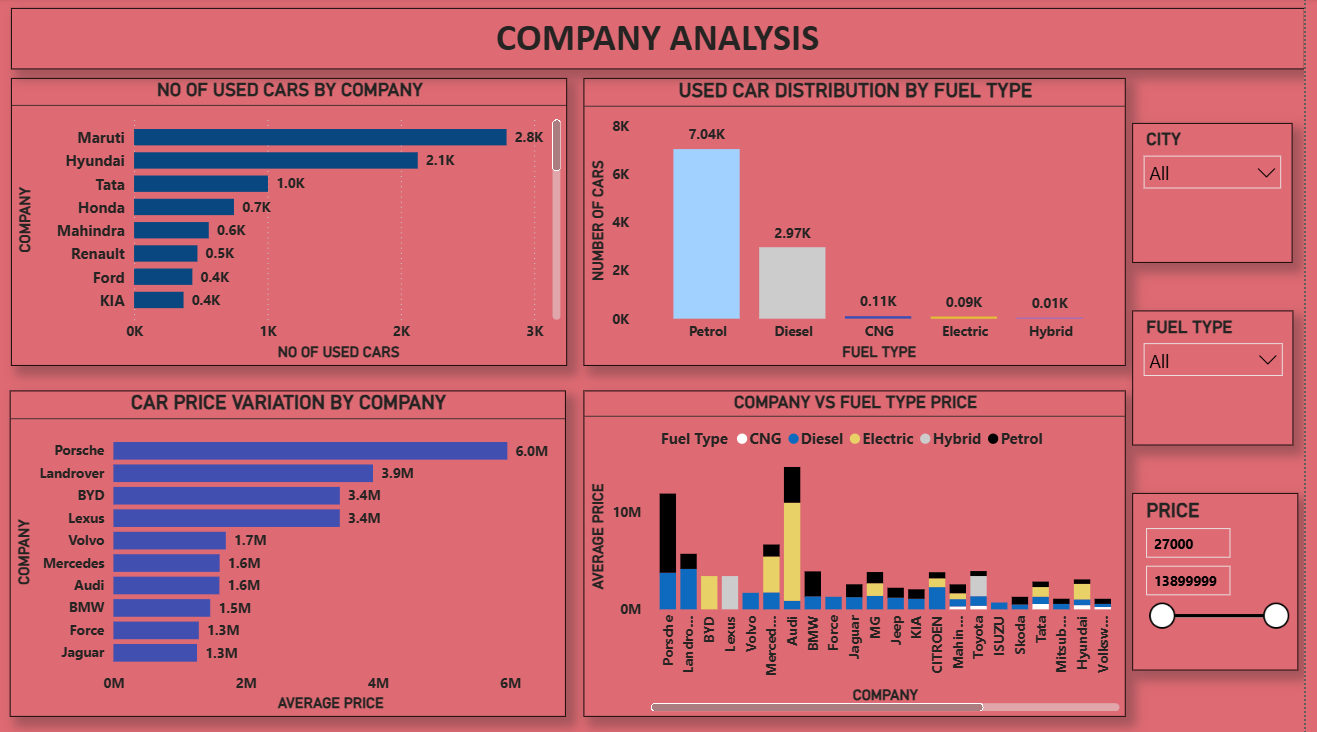

This screenshot's page, from the dashboard's own definition file:
{"tool":"powerbi","page":{"name":"COMPANY ANALYSIS","canvas":[1280,720],"ordinal":1},"visuals":[{"type":"barChart","title":"CAR PRICE VARIATION BY COMPANY","fields":{"Y":["Avg(Cars24_data.Price)"],"Category":["Cars24_data.Company"]},"box":[13.5,384,544.2,319.2],"z":0},{"type":"barChart","title":"NO OF USED CARS BY COMPANY","fields":{"Category":["Cars24_data.Company"],"Y":["CountNonNull(Cars24_data.Company)"]},"box":[14.7,78.3,544.2,281.3],"z":1000},{"type":"columnChart","title":"USED CAR DISTRIBUTION BY FUEL TYPE","fields":{"Y":["CountNonNull(Cars24_data.Fuel Type)"],"Category":["Cars24_data.Fuel Type"]},"box":[574.7,78.3,530.7,281.3],"z":2000},{"type":"columnChart","title":"COMPANY VS FUEL TYPE PRICE","fields":{"Category":["Cars24_data.Company"],"Y":["Avg(Cars24_data.Price)"],"Series":["Cars24_data.Fuel Type"]},"box":[574.7,384,530.7,319.2],"z":3000},{"type":"slicer","fields":{"Values":["Cars24_data.City"]},"box":[1111.6,122.3,156.5,137],"z":4000},{"type":"slicer","fields":{"Values":["Cars24_data.Fuel Type"]},"box":[1111.6,305.7,157.7,132.1],"z":5000},{"type":"textbox","box":[14.7,9.8,1265.6,59.9],"z":6000},{"type":"slicer","fields":{"Values":["Cars24_data.Price"]},"box":[1111.6,484.2,162.6,173.6],"z":7000}]}

Visuals, with their boxes in screenshot pixels (x1, y1, x2, y2), scaled from the page's 1280x720 canvas onto the 1317x732 screenshot:
"CAR PRICE VARIATION BY COMPANY" barChart: {"left": 14, "top": 390, "right": 574, "bottom": 715}
"NO OF USED CARS BY COMPANY" barChart: {"left": 15, "top": 80, "right": 575, "bottom": 366}
"USED CAR DISTRIBUTION BY FUEL TYPE" columnChart: {"left": 591, "top": 80, "right": 1137, "bottom": 366}
"COMPANY VS FUEL TYPE PRICE" columnChart: {"left": 591, "top": 390, "right": 1137, "bottom": 715}
slicer - Cars24_data.City: {"left": 1144, "top": 124, "right": 1305, "bottom": 264}
slicer - Cars24_data.Fuel Type: {"left": 1144, "top": 311, "right": 1306, "bottom": 445}
textbox: {"left": 15, "top": 10, "right": 1316, "bottom": 71}
slicer - Cars24_data.Price: {"left": 1144, "top": 492, "right": 1311, "bottom": 669}
